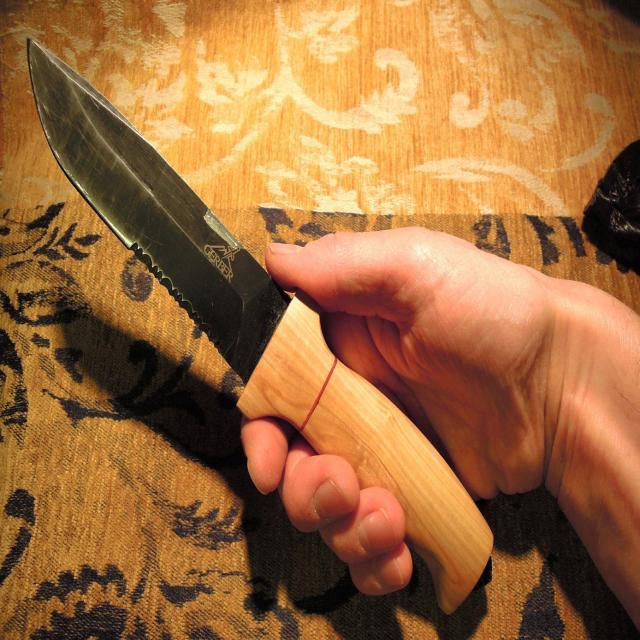knife: (21, 31, 500, 619)
